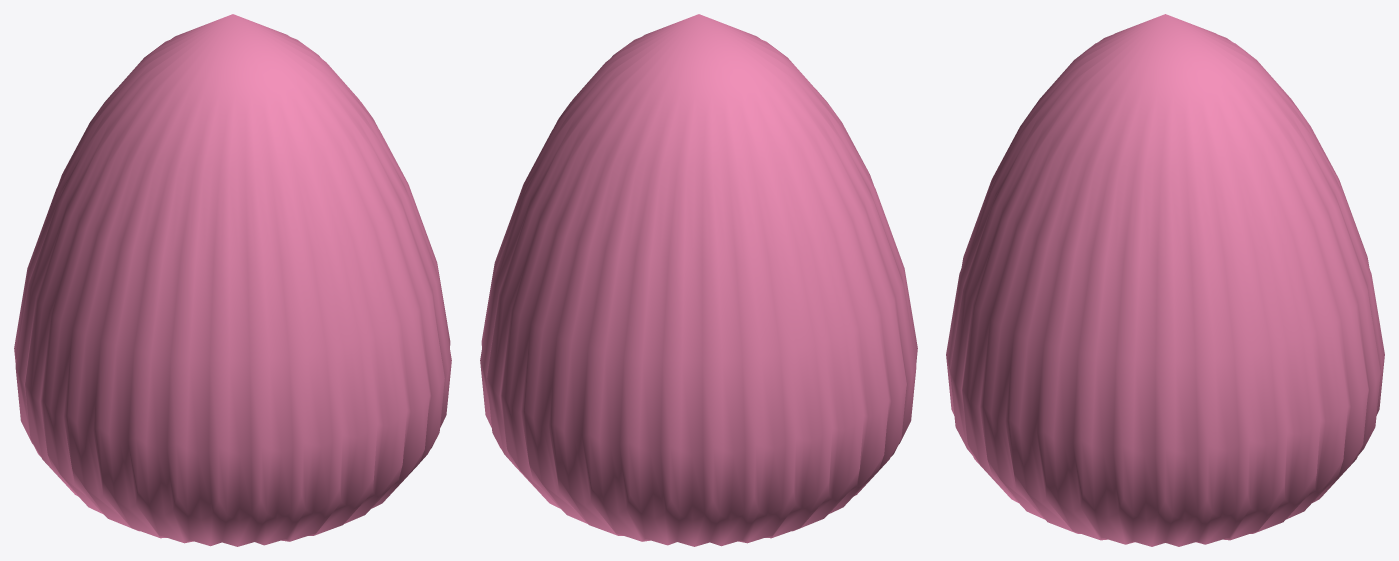
Rendered from outfit_dress.glb.
3 views of the same model, side by side, from view 1: azimuth 30°, elevation 25°; view 2: azimuth 150°, elevation 25°; view 3: azimuth 270°, elevation 25° (orthographic).
Visible parts, largest first — view 1: Cone; view 2: Cone; view 3: Cone.
Part boxes in pixels (left/top/right/bottom): Cone: left=14, top=14, right=451, bottom=546; Cone: left=480, top=14, right=917, bottom=546; Cone: left=946, top=14, right=1384, bottom=546.
Size of the model in its own units: 0.6612 by 0.8649 by 0.6612.
